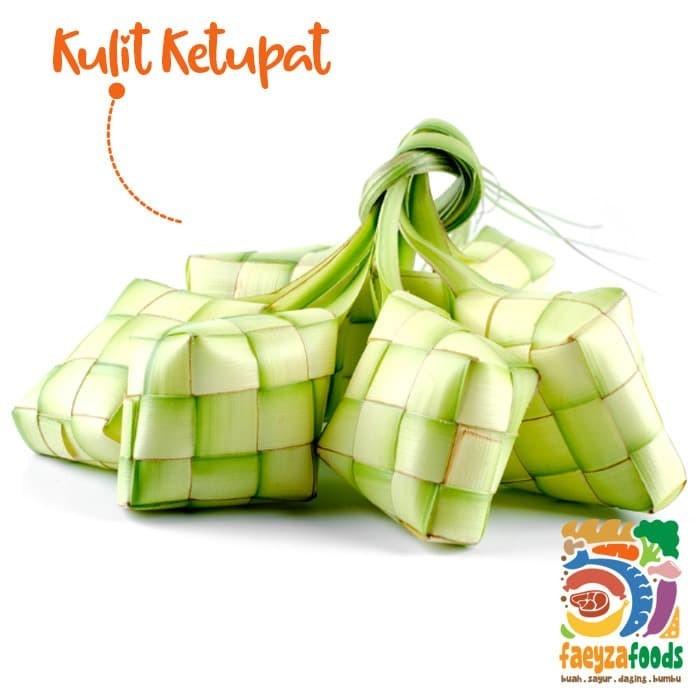ketupat: (313, 289, 543, 547), (114, 305, 335, 515)
